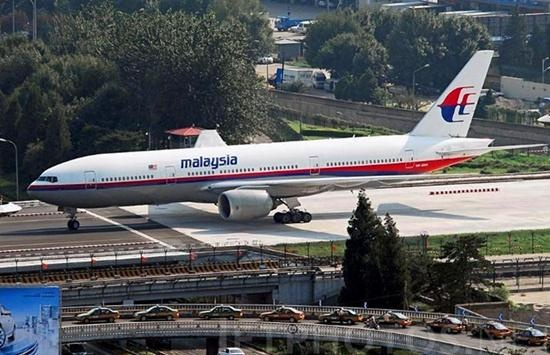airplane: (23, 50, 502, 232)
